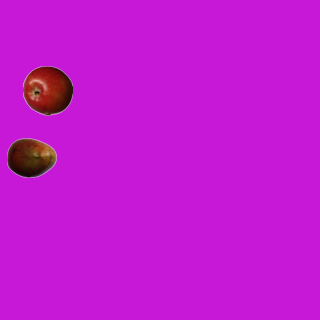Apple Braeburn: (22, 65, 72, 115)
Mango Red: (6, 132, 56, 182)
